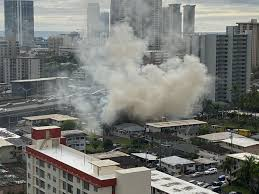smoke: (66, 35, 209, 116)
